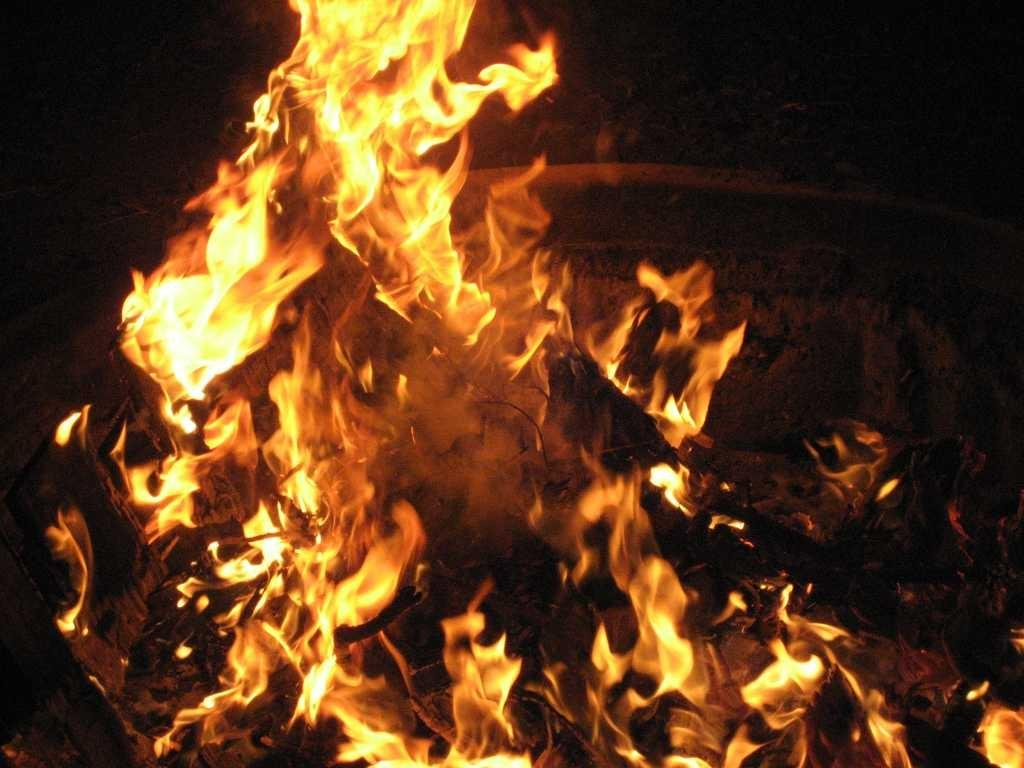fire: (392, 206, 586, 312), (152, 224, 266, 374), (326, 4, 452, 122), (278, 530, 396, 624)
